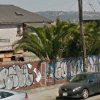Car: (55, 67, 100, 100)
